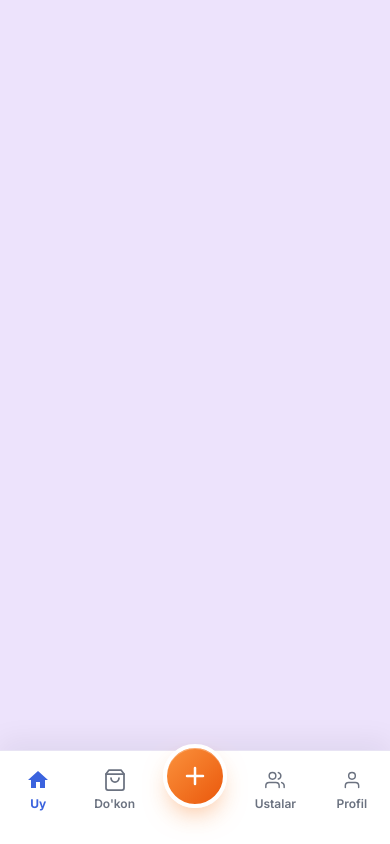
Test case: AppShell new-project sheet › offers no 360° scan (that page never used the camera)
Click the button named "Yangi loyiha qo'shish".
click(195, 776)  # box [163, 744, 227, 808]
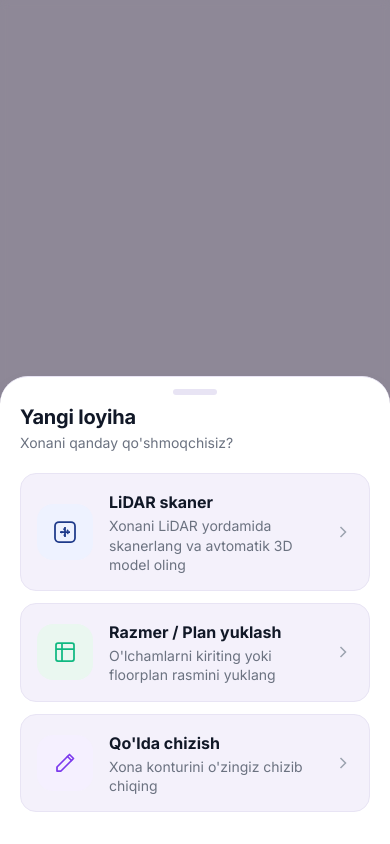
Now the text "Razmer / Plan yuklash" is shown, box [109, 622, 282, 642]
